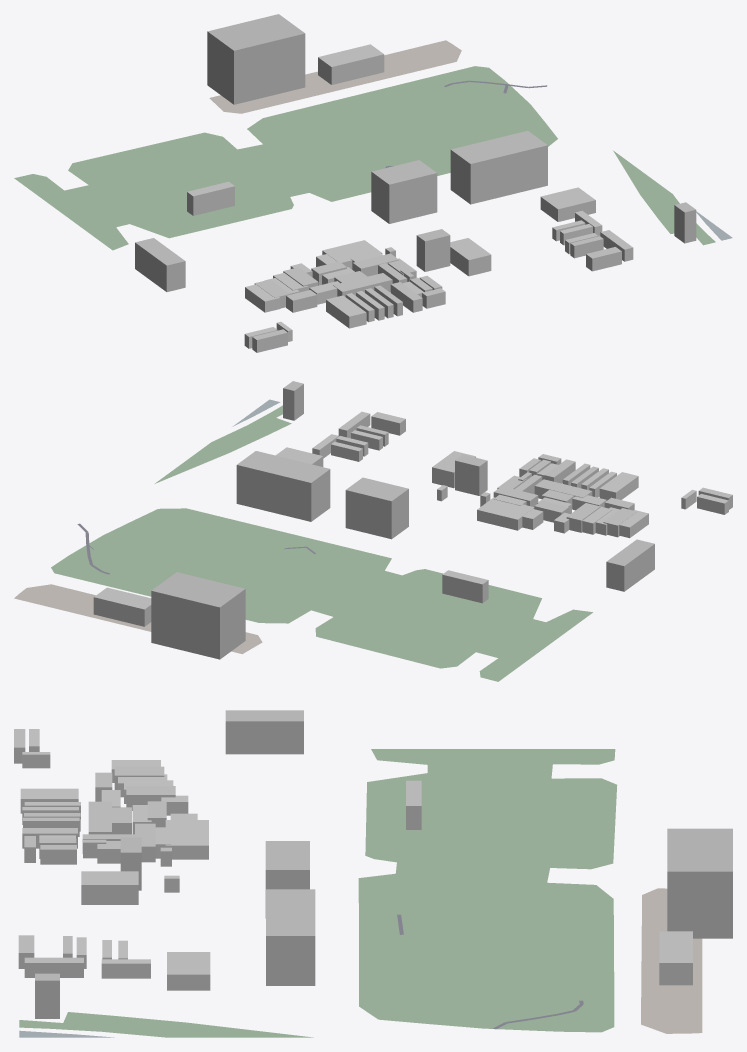
Rendered from 121_84_mid.glb.
The picture shows the model from 3 angles, top to bottom: view 1: azimuth 30°, elevation 25°; view 2: azimuth 150°, elevation 25°; view 3: azimuth 270°, elevation 25°; orthographic projection. The views are drawn at different scales.
Size of the model in its own units: 512 by 54.9 by 526.
